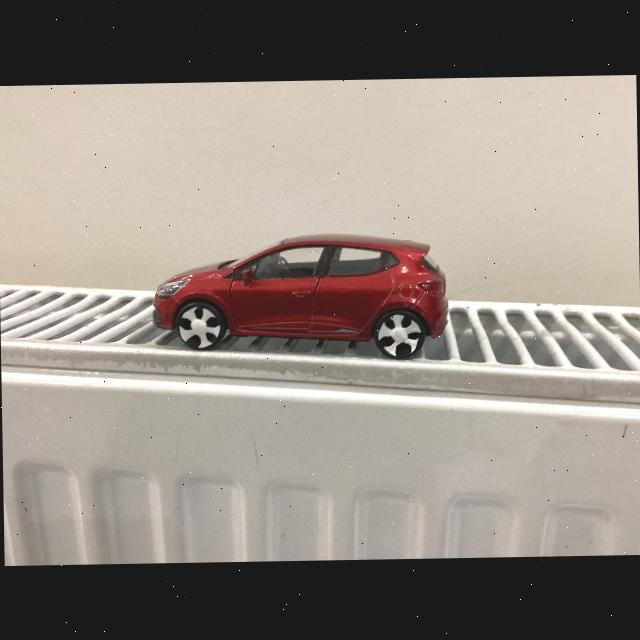Yanlis_Jant: (376, 313, 423, 357), (177, 304, 221, 348)
